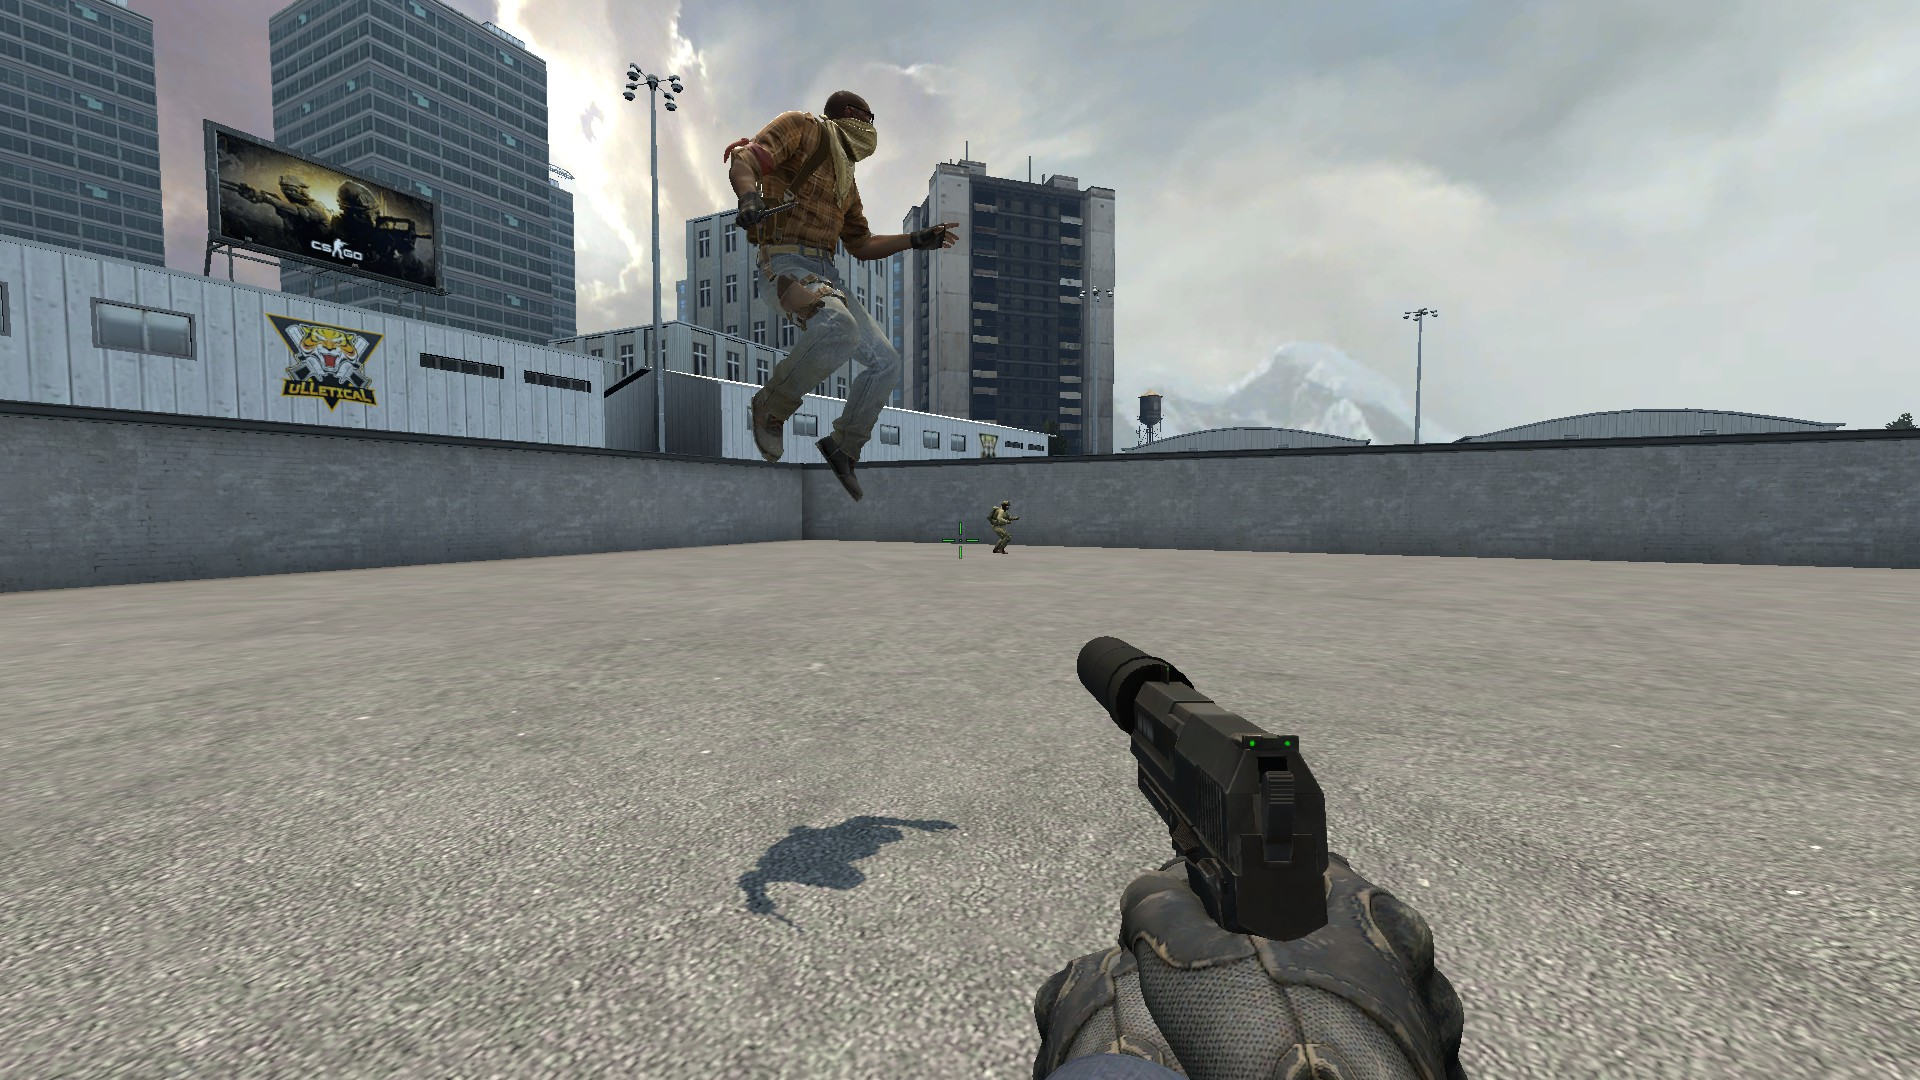tr: (718, 86, 964, 506)
tr head: (818, 89, 889, 166)
